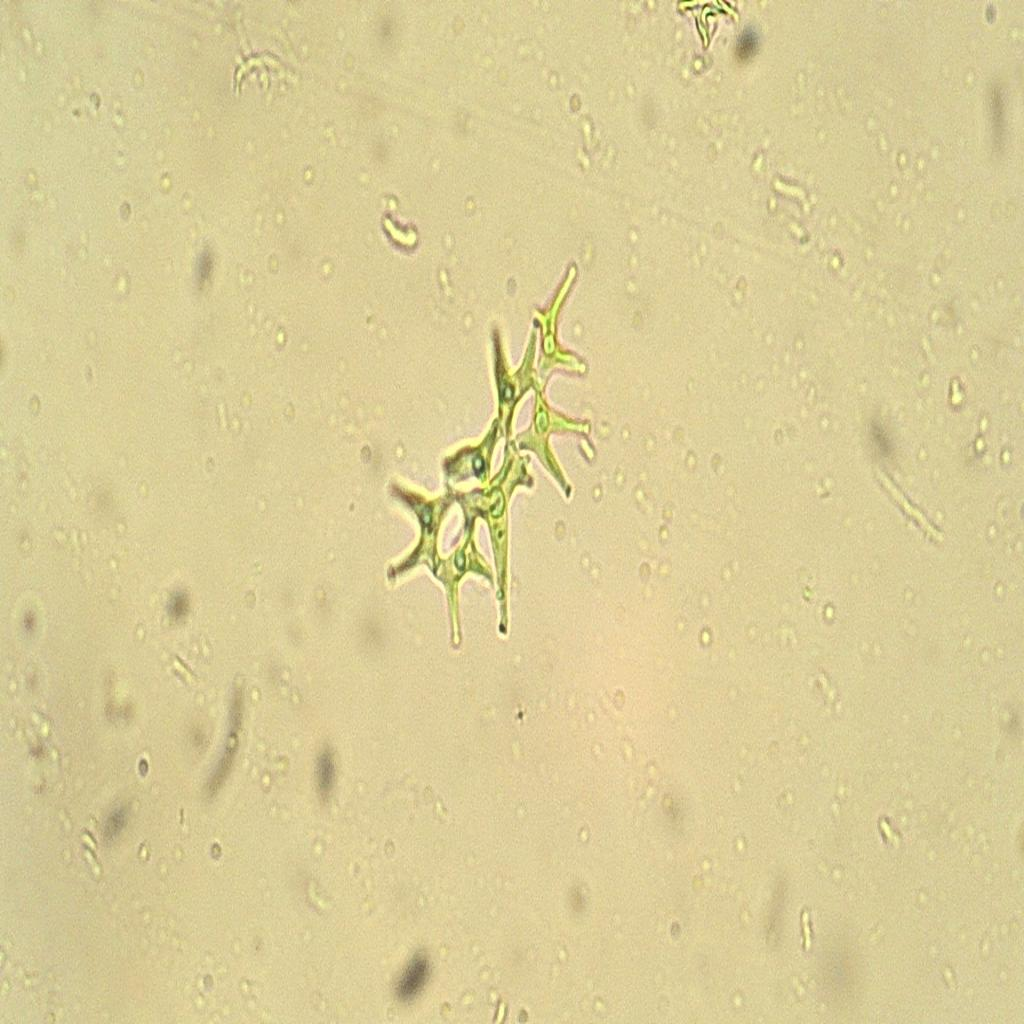Pediastrum_1TH: (360, 244, 615, 662)
